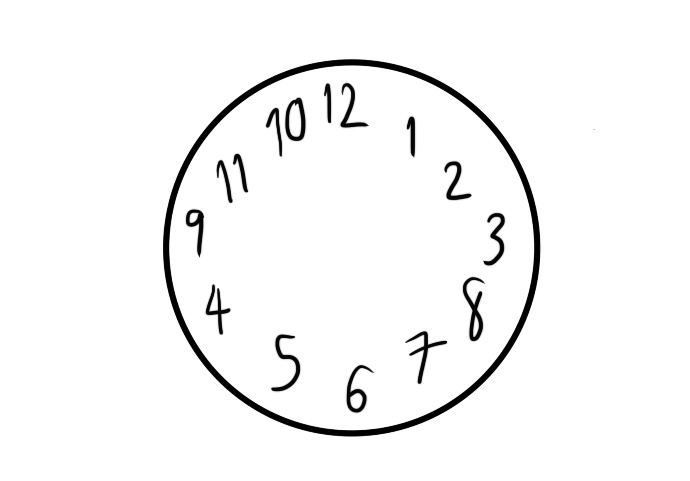eight: (458, 276, 489, 346)
eleven: (213, 153, 251, 204)
five: (270, 326, 301, 394)
four: (202, 281, 232, 336)
nine: (182, 208, 206, 257)
one: (403, 115, 421, 156)
seven: (401, 328, 449, 386)
six: (343, 358, 376, 417)
ten: (266, 95, 307, 156)
three: (482, 210, 507, 265)
twelve: (323, 81, 367, 129)
two: (442, 157, 472, 200)
